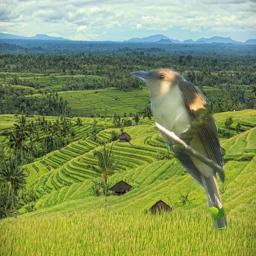Cuckoo: (127, 66, 232, 238)
